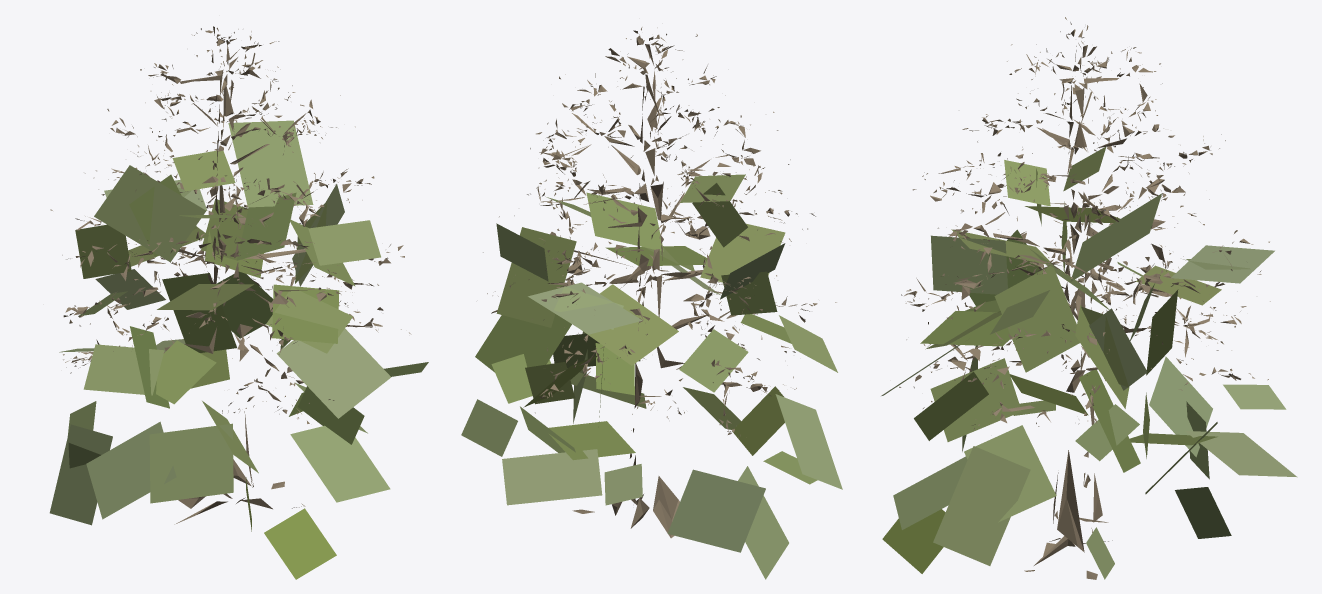
The model's file is tree_medium_redwood_a.glb.
The picture shows the model from 3 angles, left to right: view 1: azimuth 30°, elevation 25°; view 2: azimuth 150°, elevation 25°; view 3: azimuth 270°, elevation 25°; orthographic projection. The views are drawn at different scales.
Parts seen in each view (by area): view 1: leaves, wood; view 2: leaves, wood; view 3: leaves, wood.
Part boxes in pixels (x1,y1,x2,y2): leaves: [49, 120, 428, 579]; wood: [50, 26, 411, 524]; leaves: [461, 174, 842, 579]; wood: [483, 27, 836, 538]; leaves: [881, 147, 1297, 579]; wood: [899, 17, 1270, 579].
Bounding box in the file's own units: 9.36 × 13.14 × 9.77.
